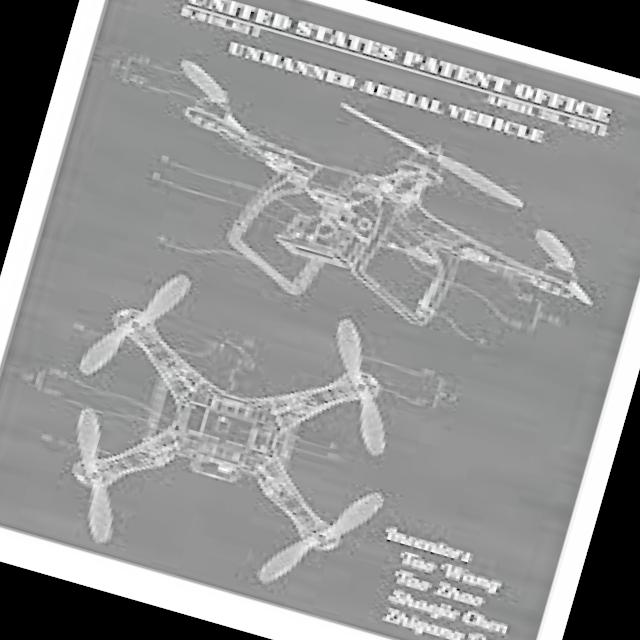drone: (88, 27, 640, 401), (26, 245, 434, 622)
